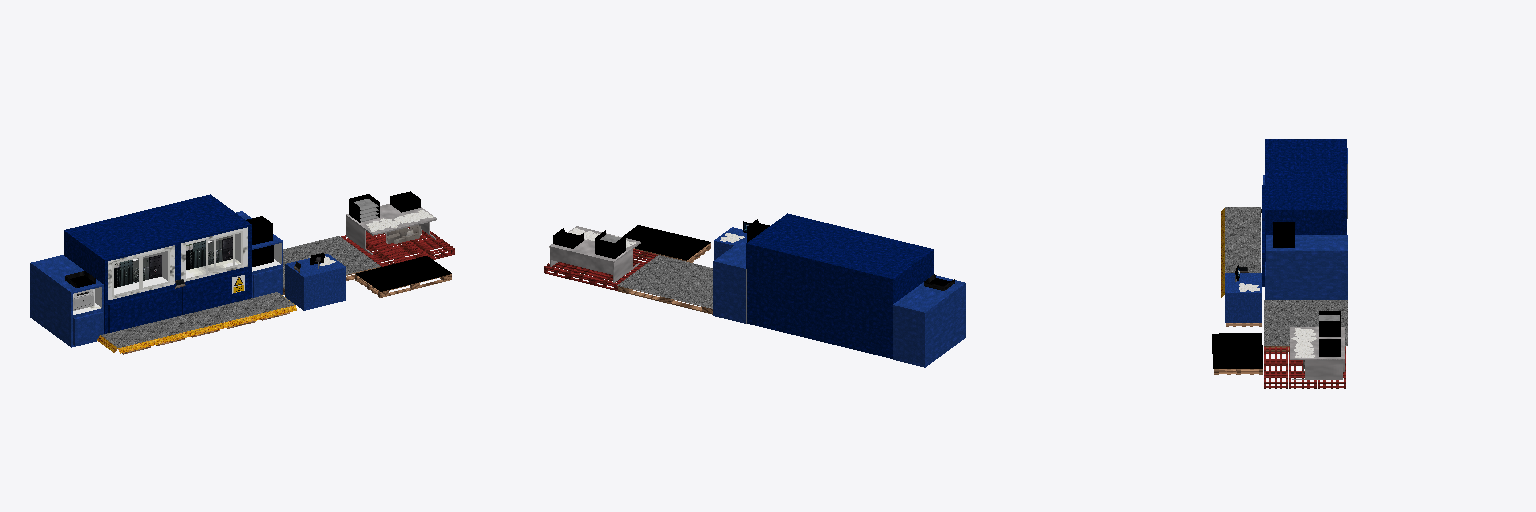
3 views of the same model, side by side, from view 1: azimuth 30°, elevation 25°; view 2: azimuth 150°, elevation 25°; view 3: azimuth 270°, elevation 25° (orthographic).
Parts seen in each view (by area): view 1: polySurface2 group1 BigMain, BigMain pCube1, BigBlue pCube2, BigPallet3 pPlane5, BigPallet2 pPlane5, table1:Mesh, pPlane9, pPlane10, polySurface22, polySurface23; view 2: polySurface2 group1 BigMain, BigPallet2 pPlane5, table1:Mesh, BigPallet3 pPlane5, polySurface22; view 3: polySurface2 group1 BigMain, BigMain pCube1, BigPallet2 pPlane5, BigPallet3 pPlane5, BigBlue pCube2, table1:Mesh, polySurface22, polySurface23.
Boxes of the visible parts, x1,y1,x2,y2 form: polySurface2 group1 BigMain: [30, 194, 282, 347]; BigMain pCube1: [97, 292, 296, 353]; BigBlue pCube2: [285, 254, 345, 310]; BigPallet3 pPlane5: [356, 256, 451, 291]; BigPallet2 pPlane5: [283, 236, 380, 288]; table1:Mesh: [346, 204, 436, 254]; pPlane9: [186, 237, 232, 269]; pPlane10: [114, 255, 161, 287]; polySurface22: [349, 194, 379, 222]; polySurface23: [246, 216, 272, 244]; polySurface2 group1 BigMain: [713, 213, 965, 367]; BigPallet2 pPlane5: [617, 255, 712, 308]; table1:Mesh: [549, 226, 640, 282]; BigPallet3 pPlane5: [623, 225, 710, 260]; polySurface22: [595, 230, 625, 258]; polySurface2 group1 BigMain: [1262, 139, 1347, 299]; BigMain pCube1: [1221, 207, 1260, 297]; BigPallet2 pPlane5: [1264, 300, 1347, 345]; BigPallet3 pPlane5: [1212, 333, 1262, 368]; BigBlue pCube2: [1225, 273, 1261, 322]; table1:Mesh: [1290, 327, 1344, 379]; polySurface22: [1319, 311, 1340, 336]; polySurface23: [1273, 222, 1294, 247].
Size of the model in its own units: 4.21 by 0.8413 by 1.3.
Materials: 50 (36 with a texture image).